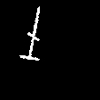double_crochet: (20, 7, 39, 59)
